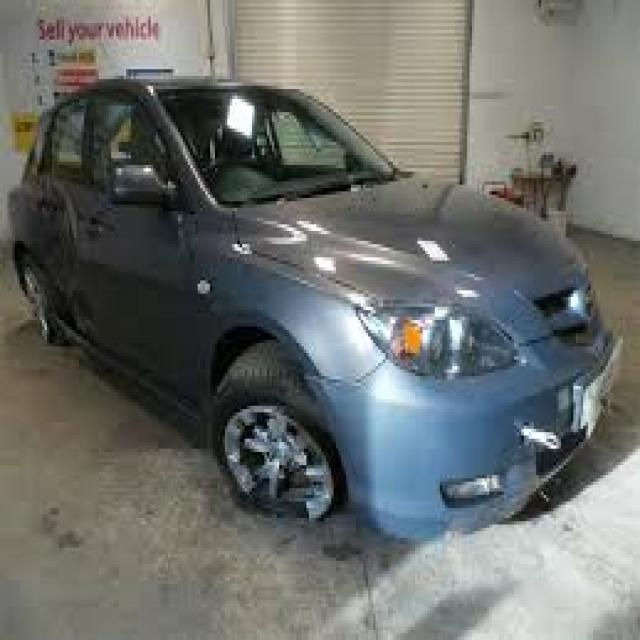minor: (491, 370, 575, 478)
